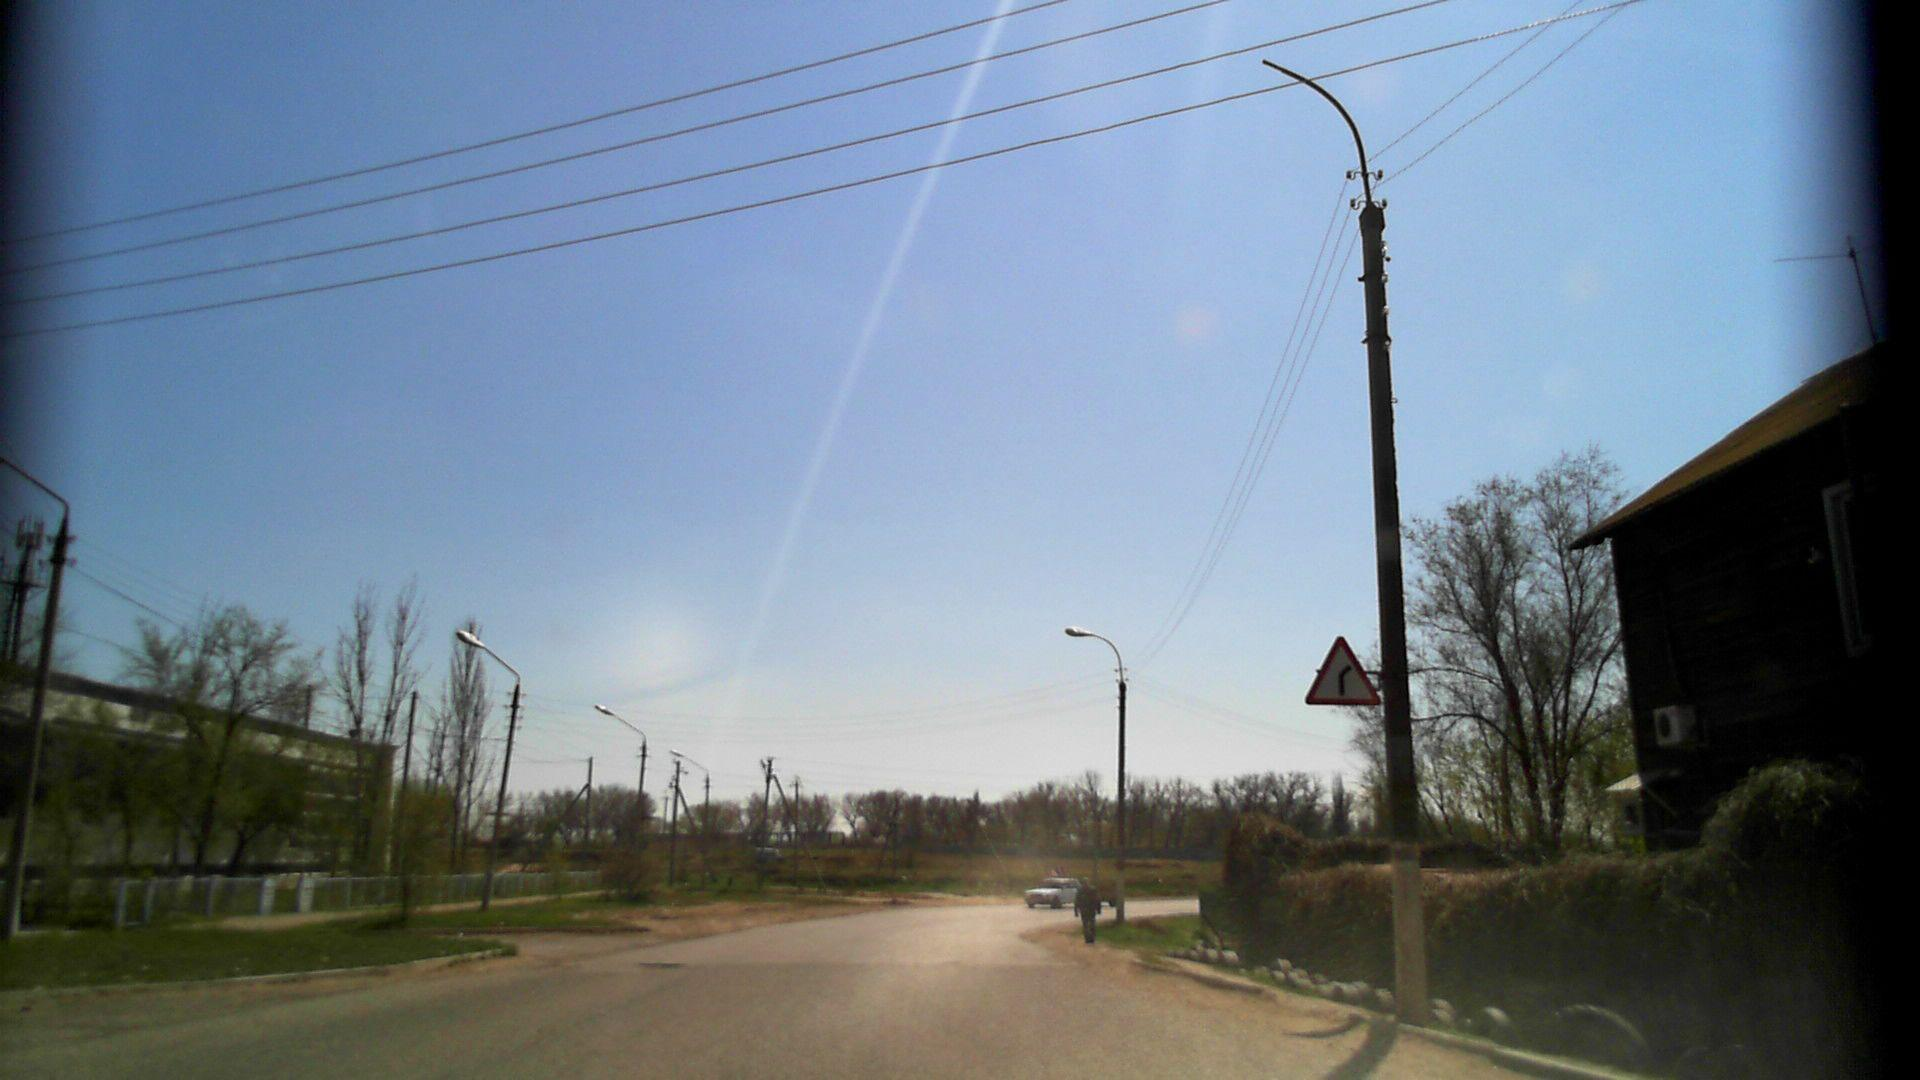1_11_1: (1294, 628, 1386, 708)
